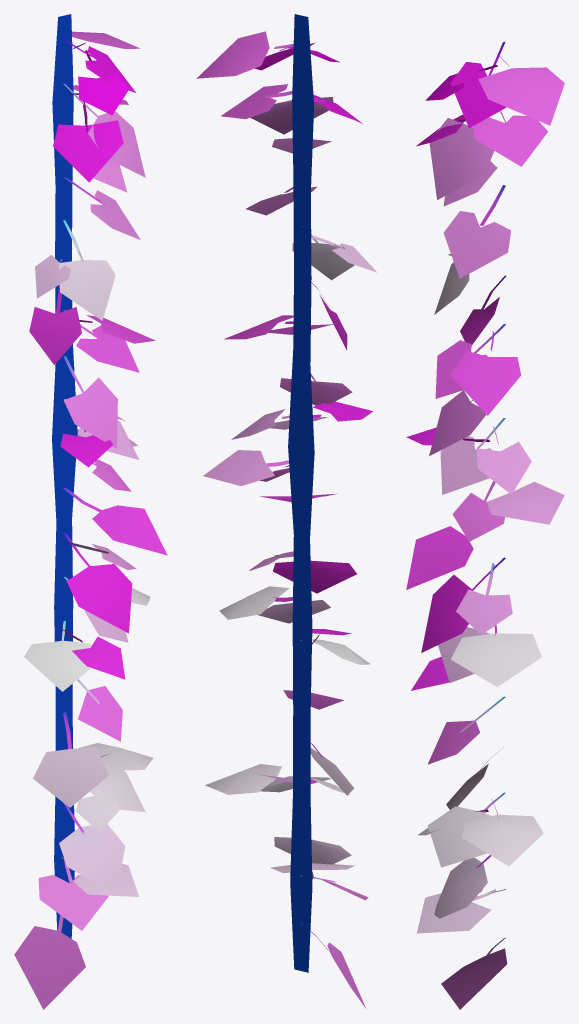
File: English_Ivy_xfcnebhqx_Mid_xfcnebhqx_VarD_LOD1.fbx
3 views of the same model, side by side, from view 1: azimuth 30°, elevation 25°; view 2: azimuth 150°, elevation 25°; view 3: azimuth 270°, elevation 25° (orthographic). The views are drawn at different scales.
Visible parts, largest first — view 1: _66ta_VarD_LOD3; view 2: _66ta_VarD_LOD3; view 3: _66ta_VarD_LOD3.
Boxes of the visible parts, x1,y1,x2,y2 form: _66ta_VarD_LOD3: (14,14,167,1009); _66ta_VarD_LOD3: (196,14,376,1008); _66ta_VarD_LOD3: (406,41,564,1009).
Size of the model in its own units: 11.72 by 76.29 by 10.83.
